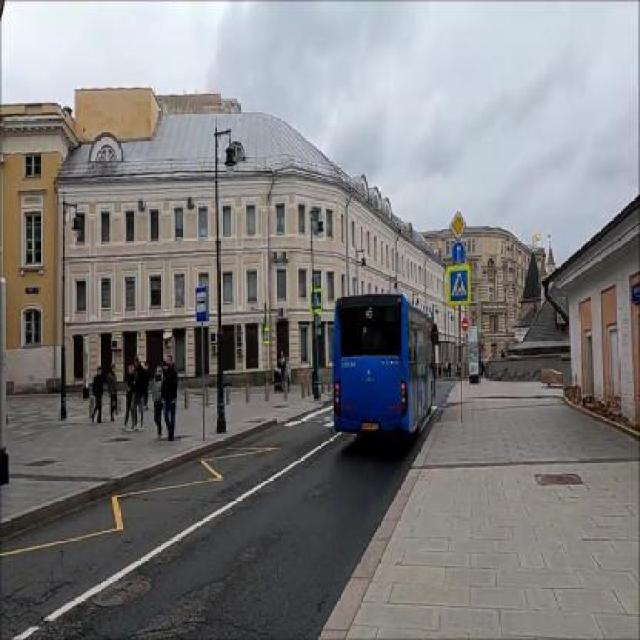bus: (333, 296, 441, 439)
